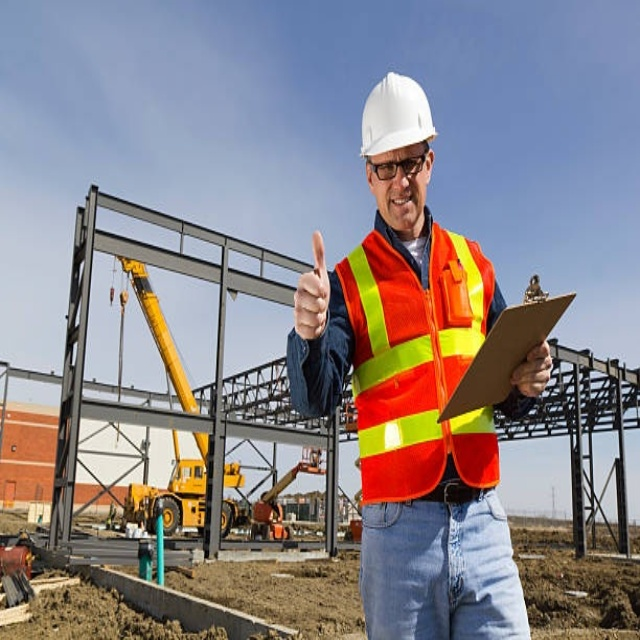Gafas: (367, 151, 429, 182)
Sin_guantes: (293, 234, 330, 341), (511, 337, 553, 399)
Sin_mascara: (386, 188, 420, 221)
